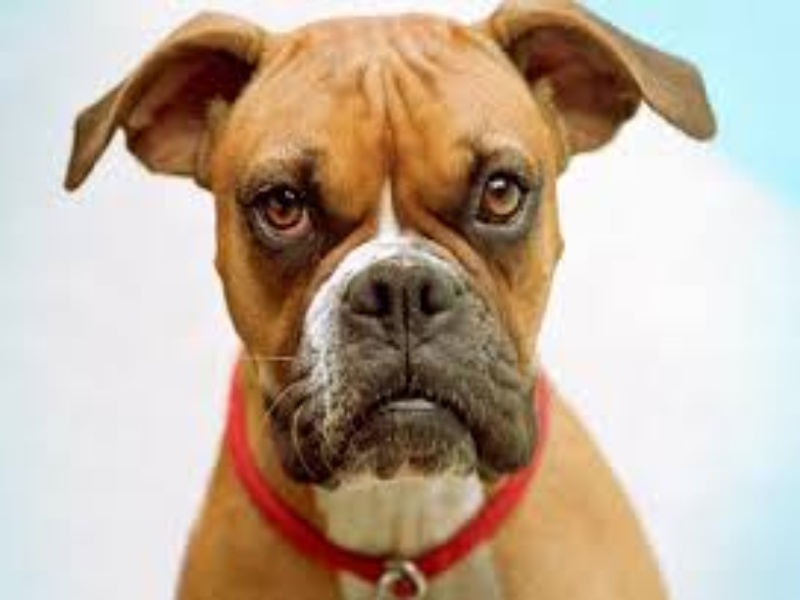dog: (55, 7, 732, 600)
